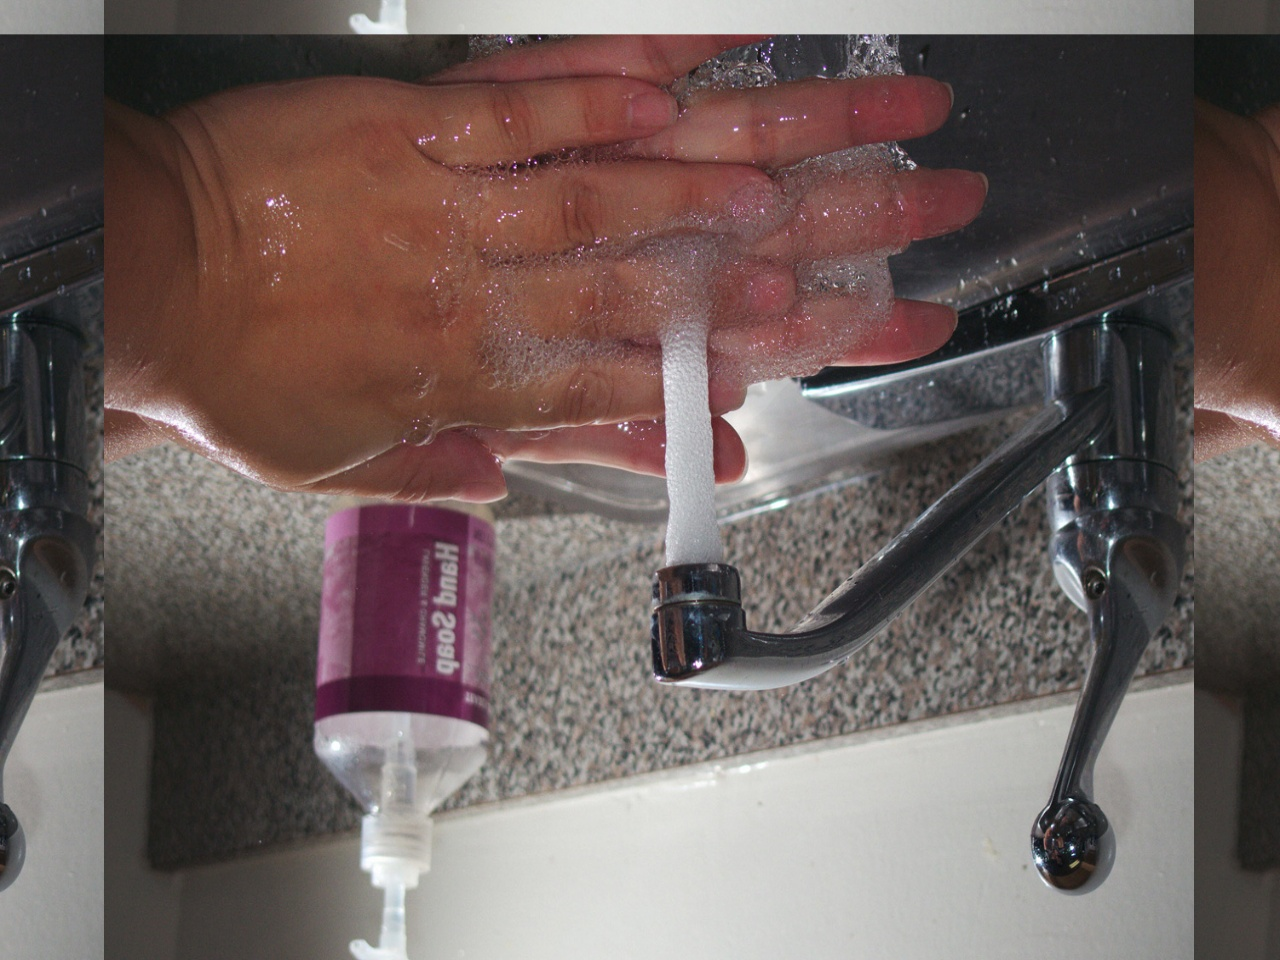washing hand: (228, 42, 1039, 722)
